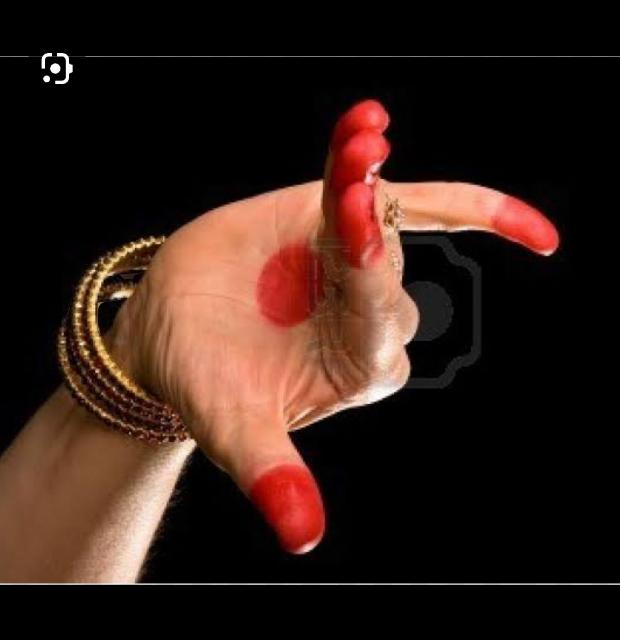mrighasheesh: (60, 98, 555, 555)
